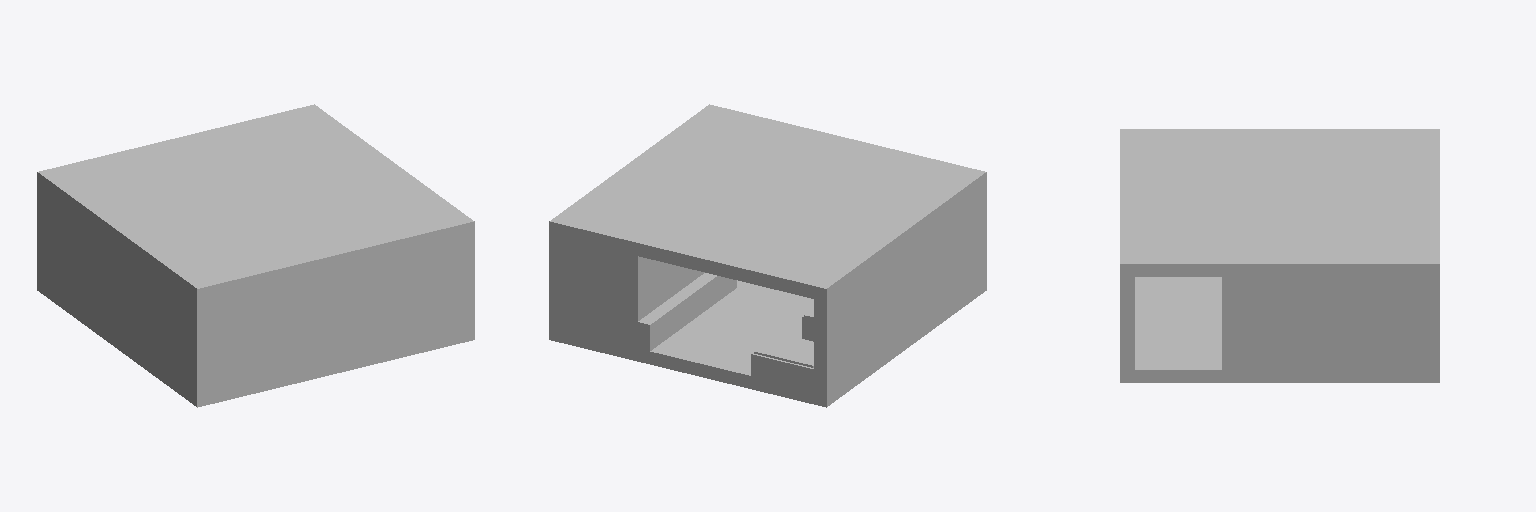
File: unionC_roof.obj
The picture shows the model from 3 angles: view 1: azimuth 30°, elevation 25°; view 2: azimuth 150°, elevation 25°; view 3: azimuth 270°, elevation 25°; orthographic projection.
Parts seen in each view (by area): view 1: object 1; view 2: object 1; view 3: object 1.
Boxes of the visible parts, x1=… form: object 1: x1=37, y1=104, x2=474, y2=407; object 1: x1=549, y1=104, x2=986, y2=407; object 1: x1=1120, y1=129, x2=1439, y2=382.
Bounding box in the file's own units: 13.2 × 5.4 × 13.2.